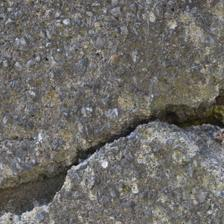Crack: (4, 95, 218, 220)
